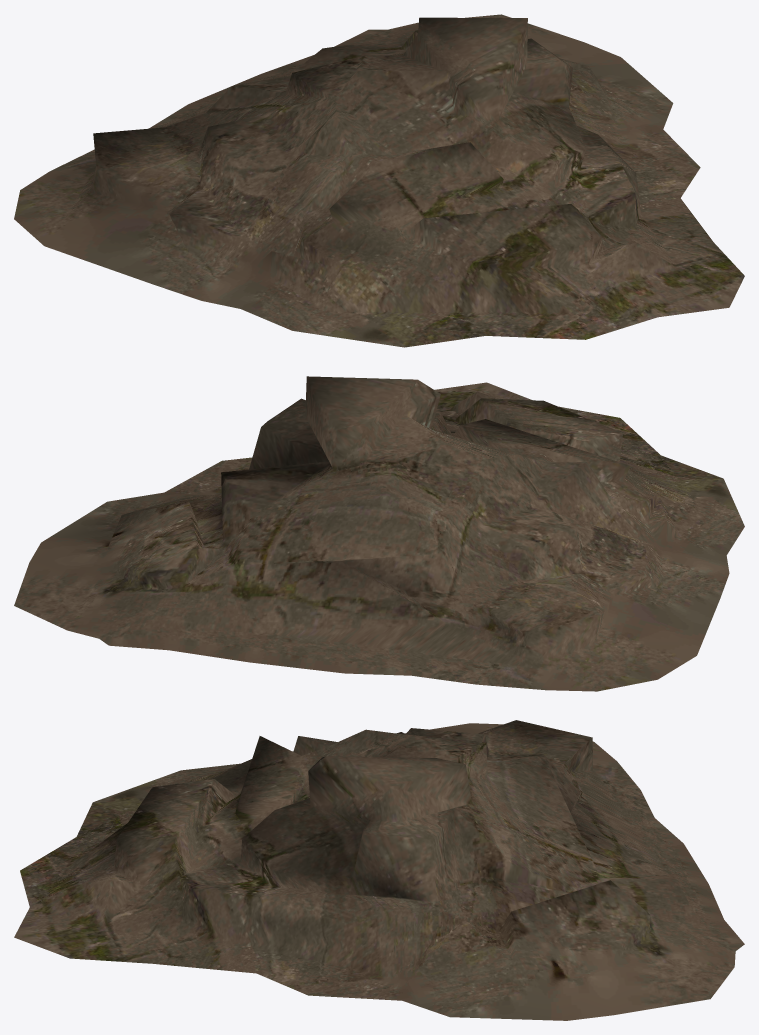
The model's file is Rubbles_05.fbx.
3 views of the same model, one above another, from view 1: azimuth 30°, elevation 25°; view 2: azimuth 150°, elevation 25°; view 3: azimuth 270°, elevation 25° (orthographic). The views are drawn at different scales.
Parts seen in each view (by area): view 1: Rubble_Big_LOD3:Rubble_Big_LOD3_0; view 2: Rubble_Big_LOD3:Rubble_Big_LOD3_0; view 3: Rubble_Big_LOD3:Rubble_Big_LOD3_0.
Boxes of the visible parts, box(x1,y1,x2,y2) form: Rubble_Big_LOD3:Rubble_Big_LOD3_0: box(14, 14, 744, 347); Rubble_Big_LOD3:Rubble_Big_LOD3_0: box(14, 376, 744, 691); Rubble_Big_LOD3:Rubble_Big_LOD3_0: box(14, 720, 744, 1020).
Bounding box in the file's own units: 44.45 × 10.17 × 46.13.
1 material, 1 textured.
